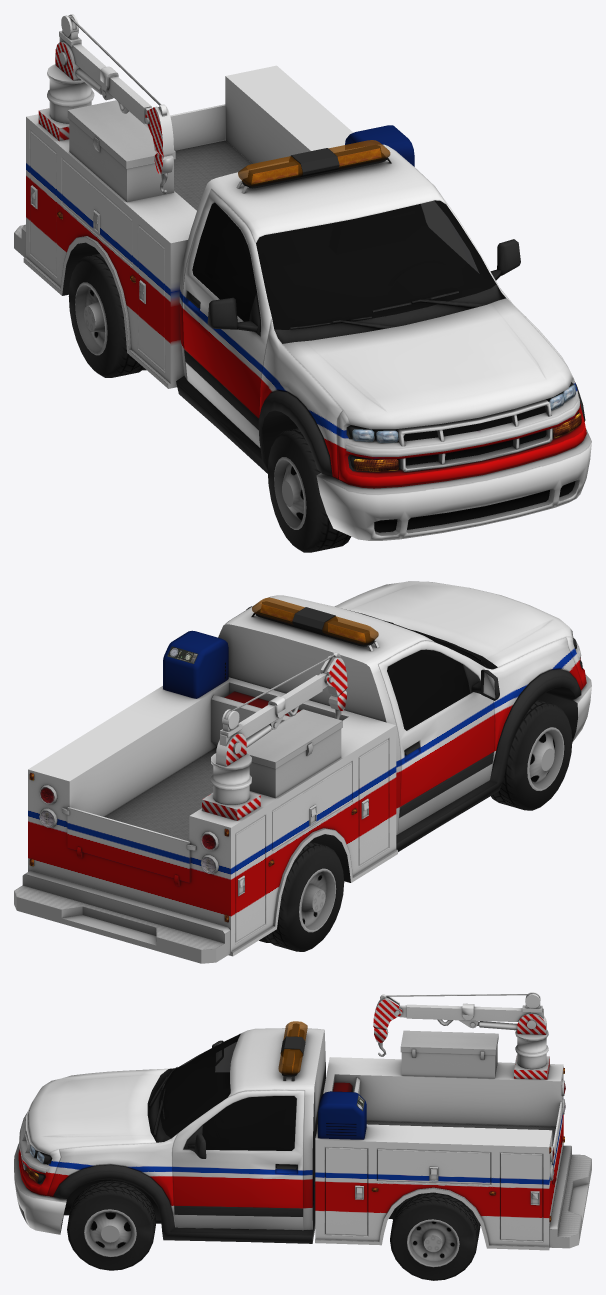
Rendered from veicolo_pickup_servizio.glb.
The picture shows the model from 3 angles, top to bottom: view 1: azimuth 30°, elevation 25°; view 2: azimuth 150°, elevation 25°; view 3: azimuth 270°, elevation 25°; orthographic projection. The views are drawn at different scales.
Visible parts, largest first — view 1: sb_modello; view 2: sb_modello; view 3: sb_modello.
Part boxes in pixels (left/top/right/bottom): sb_modello: left=14, top=14, right=591, bottom=552; sb_modello: left=14, top=581, right=591, bottom=963; sb_modello: left=14, top=992, right=591, bottom=1280.
Bounding box in the file's own units: 2.27 × 2.19 × 5.32.
4 materials, 4 textured.
